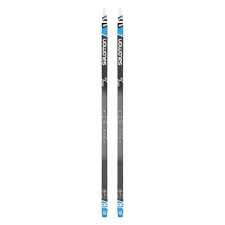skis: (97, 6, 127, 219)
